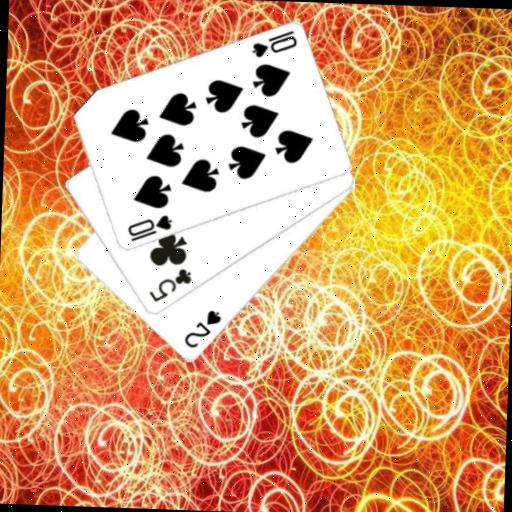10S: (248, 26, 299, 60), (124, 210, 174, 244)
2S: (180, 306, 223, 351)
5C: (145, 264, 193, 306)
